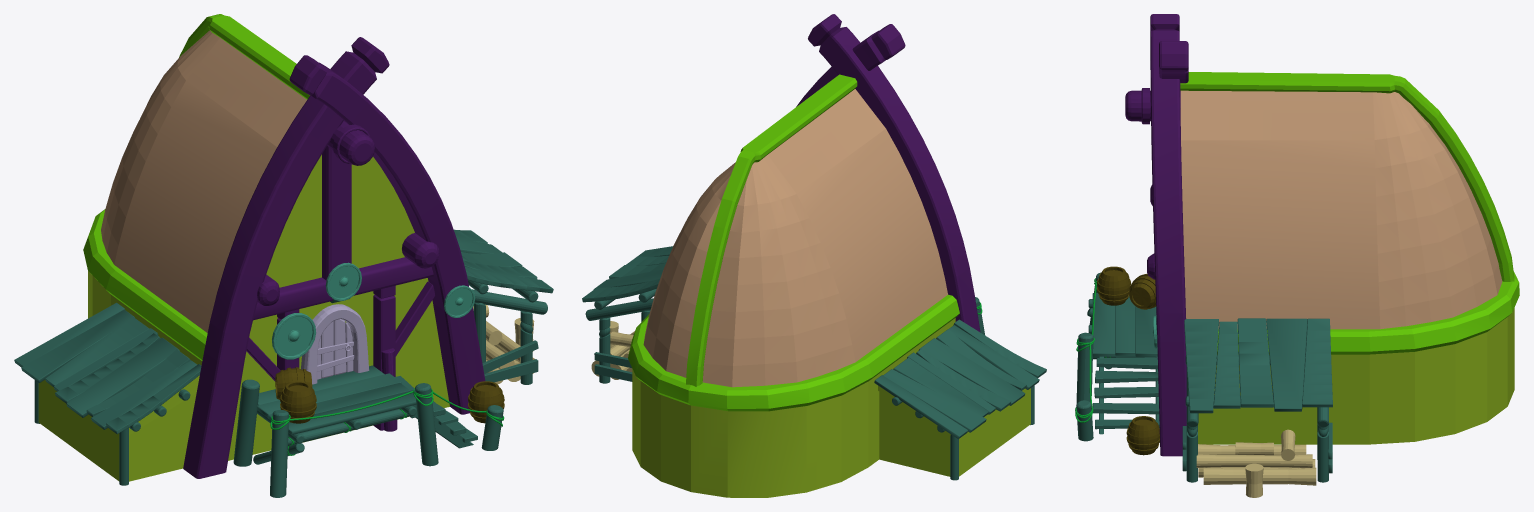
File: house.FBX
3 renders of one model, left to right at view 1: azimuth 30°, elevation 25°; view 2: azimuth 150°, elevation 25°; view 3: azimuth 270°, elevation 25°, orthographic. The views are drawn at different scales.
Visible parts, largest first — view 1: 008-0-8, 000-0-0, 002-0-2, 001-0-1, 007-0-7, 004-0-4, 005-0-5, 009-0-9, 010-0-10, 003-0-3; view 2: 002-0-2, 001-0-1, 000-0-0, 007-0-7, 008-0-8, 010-0-10; view 3: 002-0-2, 000-0-0, 001-0-1, 008-0-8, 007-0-7, 010-0-10, 009-0-9, 003-0-3.
Part boxes in pixels (bbox=[...]): 008-0-8: bbox=[183, 37, 485, 478]; 000-0-0: bbox=[14, 229, 553, 497]; 002-0-2: bbox=[101, 30, 306, 332]; 001-0-1: bbox=[38, 154, 449, 481]; 007-0-7: bbox=[83, 14, 309, 360]; 004-0-4: bbox=[301, 304, 369, 384]; 005-0-5: bbox=[272, 262, 475, 359]; 009-0-9: bbox=[275, 367, 504, 423]; 010-0-10: bbox=[473, 304, 534, 384]; 003-0-3: bbox=[270, 388, 504, 455]; 002-0-2: bbox=[643, 89, 947, 387]; 001-0-1: bbox=[632, 318, 1030, 497]; 000-0-0: bbox=[582, 246, 1046, 480]; 007-0-7: bbox=[628, 74, 959, 411]; 008-0-8: bbox=[796, 14, 980, 332]; 010-0-10: bbox=[591, 321, 634, 379]; 002-0-2: bbox=[1180, 90, 1502, 329]; 000-0-0: bbox=[1076, 272, 1332, 482]; 001-0-1: bbox=[1198, 308, 1514, 444]; 008-0-8: bbox=[1125, 14, 1188, 456]; 007-0-7: bbox=[1180, 72, 1519, 354]; 010-0-10: bbox=[1196, 429, 1316, 497]; 009-0-9: bbox=[1097, 266, 1159, 455]; 003-0-3: bbox=[1075, 278, 1110, 422].
Bounding box in the file's own units: 962 × 780 × 861.
